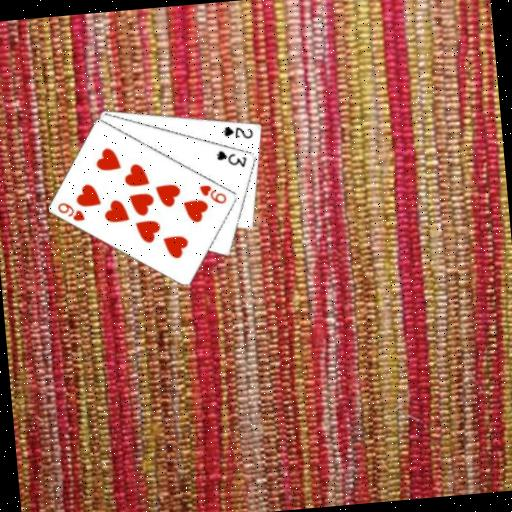2S: (220, 121, 255, 142)
3S: (213, 145, 249, 171)
9H: (197, 180, 229, 207), (55, 198, 87, 225)
